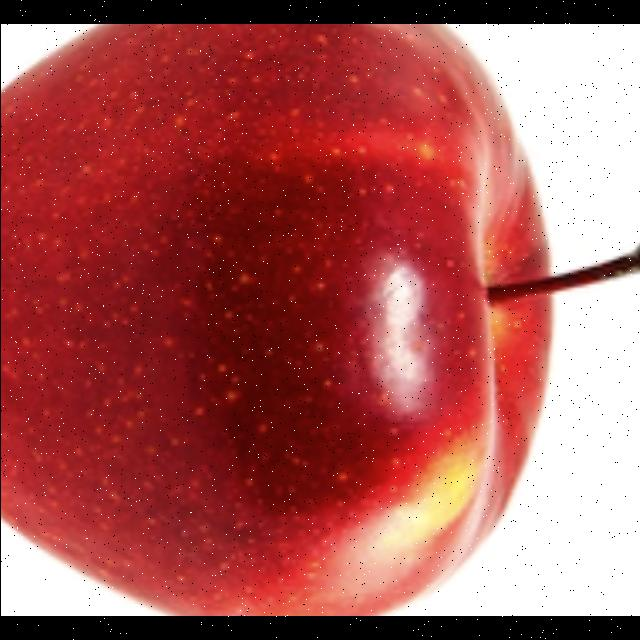Apel Segar: (0, 24, 564, 616)
